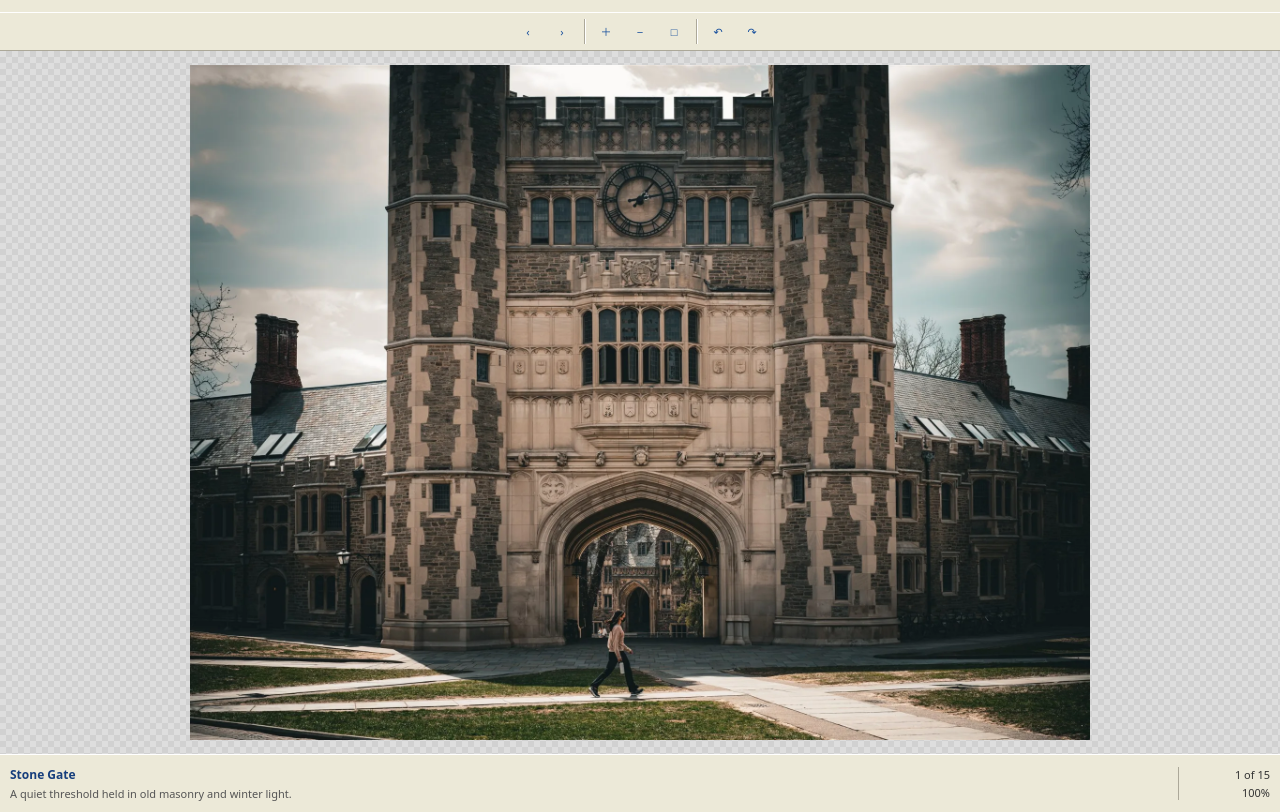
Test: PictureViewer › zooms in from fitted 100% to 125%
What coordinates should you click on to do the following:
click the button named "Zoom in"
I would click on:
 (606, 31)
Its box is x1=590 y1=16 x2=622 y2=46.
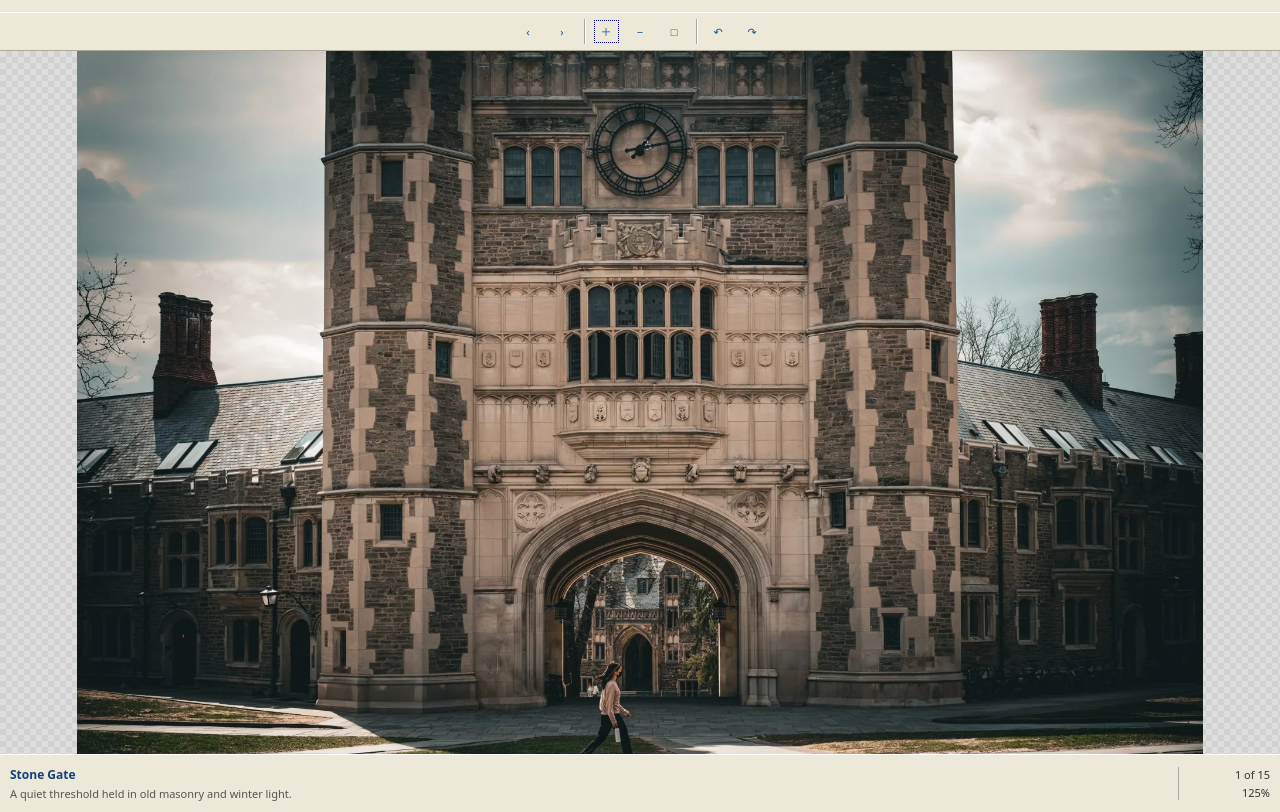
Check: the text "125%" is shown, box x1=1242 y1=785 x2=1270 y2=800
